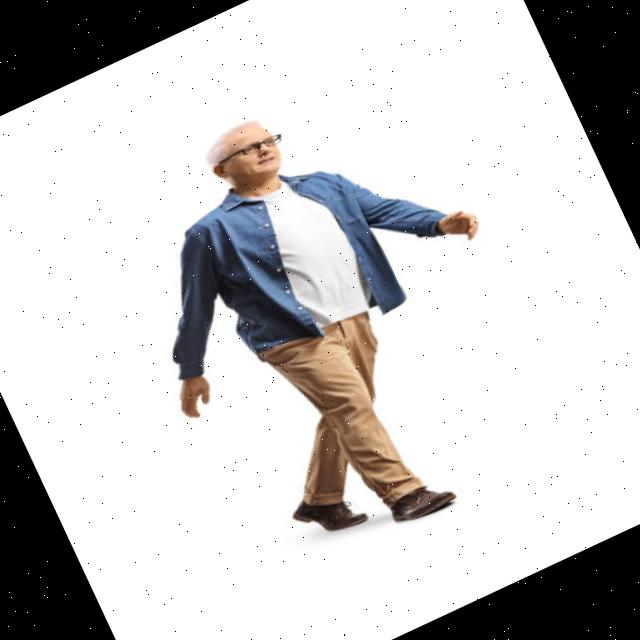Person: (82, 52, 580, 590)
